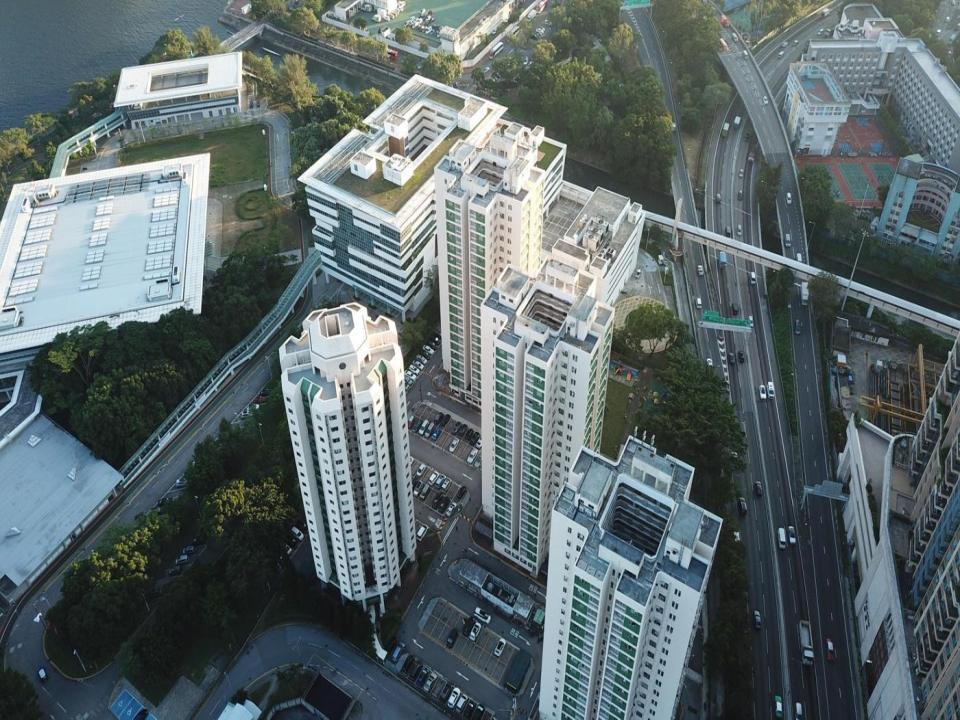bus: (377, 45, 399, 60), (505, 27, 520, 42), (489, 42, 503, 58), (535, 0, 548, 14)
car: (423, 672, 438, 691), (462, 617, 475, 636), (448, 688, 461, 707), (463, 699, 476, 718), (386, 635, 398, 654), (469, 623, 481, 642), (494, 637, 506, 656), (431, 492, 443, 510), (285, 535, 300, 549), (417, 667, 428, 686), (37, 665, 48, 683), (774, 695, 782, 719), (826, 638, 834, 662), (141, 588, 160, 598), (467, 447, 478, 464), (279, 540, 292, 554), (298, 518, 310, 533), (132, 709, 148, 719), (404, 455, 414, 471), (411, 418, 422, 432), (449, 438, 460, 452), (149, 507, 166, 516), (439, 496, 448, 513), (754, 611, 762, 630), (788, 526, 796, 545), (446, 502, 456, 517), (706, 357, 714, 375), (451, 421, 462, 434), (440, 414, 451, 427), (192, 536, 206, 546), (175, 554, 189, 564), (408, 478, 418, 492), (474, 452, 483, 467), (405, 368, 416, 380), (419, 349, 431, 360), (169, 564, 182, 574), (422, 344, 435, 354), (417, 463, 426, 477), (158, 496, 173, 504), (402, 376, 414, 386), (426, 340, 438, 350), (457, 486, 467, 498), (755, 481, 762, 498), (412, 360, 425, 369), (246, 402, 260, 410), (759, 385, 767, 399), (731, 448, 738, 464), (459, 424, 468, 436), (476, 434, 483, 449), (240, 410, 253, 418), (260, 388, 273, 396), (176, 478, 189, 486), (183, 546, 196, 554), (432, 426, 440, 439), (409, 364, 419, 374), (400, 379, 409, 390), (406, 416, 414, 428), (253, 396, 266, 403), (795, 319, 801, 334), (434, 411, 442, 422), (695, 297, 702, 309), (193, 459, 203, 467), (738, 350, 744, 363), (465, 428, 472, 439), (729, 352, 735, 364), (698, 265, 704, 276), (535, 27, 544, 34), (493, 71, 500, 78), (545, 19, 552, 26), (492, 27, 498, 35), (483, 66, 489, 74), (429, 29, 435, 37), (532, 31, 540, 37), (534, 30, 542, 36), (763, 96, 769, 104), (716, 194, 721, 203), (419, 8, 425, 15), (488, 77, 495, 83), (490, 74, 497, 80), (744, 132, 749, 140), (738, 168, 742, 177), (782, 42, 788, 48), (419, 25, 424, 32), (425, 20, 430, 27), (529, 60, 534, 67), (529, 34, 536, 39), (418, 16, 422, 24), (524, 57, 528, 65), (384, 15, 390, 20), (418, 66, 424, 71), (388, 14, 394, 19), (394, 9, 400, 14), (397, 6, 403, 11), (416, 23, 421, 29), (436, 32, 442, 37), (434, 25, 440, 30), (539, 26, 544, 32), (946, 16, 950, 23), (250, 99, 253, 108), (408, 21, 412, 27), (434, 30, 438, 36), (418, 17, 422, 22), (414, 17, 418, 22), (794, 40, 798, 45), (951, 0, 955, 5), (257, 101, 260, 107), (422, 15, 426, 19)
truck: (798, 620, 814, 667), (801, 282, 809, 306), (748, 143, 756, 162), (526, 9, 536, 23), (718, 251, 726, 268), (721, 15, 730, 28), (719, 38, 727, 52), (821, 8, 830, 18), (371, 14, 381, 22)
van: (474, 607, 491, 624), (392, 642, 405, 664), (409, 660, 423, 680), (402, 654, 414, 675), (446, 628, 458, 648), (440, 682, 452, 702), (456, 694, 468, 714), (416, 523, 429, 541), (292, 525, 305, 540), (473, 704, 486, 719), (418, 419, 430, 435), (778, 527, 786, 548), (825, 26, 839, 38), (435, 474, 446, 488), (738, 421, 746, 440), (428, 472, 439, 485), (722, 121, 730, 138), (738, 497, 746, 514), (425, 422, 434, 437), (420, 484, 429, 499), (470, 431, 480, 444), (947, 33, 957, 46), (767, 381, 774, 399), (734, 531, 740, 551), (414, 481, 421, 497), (733, 115, 741, 129), (430, 334, 441, 344), (416, 354, 427, 364), (796, 702, 802, 718), (796, 253, 802, 269), (785, 233, 791, 248), (749, 272, 756, 284), (732, 302, 738, 316), (747, 315, 754, 327), (708, 6, 716, 15), (786, 192, 792, 204), (736, 225, 742, 236), (724, 227, 730, 238), (806, 38, 814, 46), (732, 32, 738, 42), (404, 19, 411, 27), (425, 26, 432, 34), (777, 51, 784, 59), (743, 49, 748, 60), (954, 22, 960, 31), (364, 5, 372, 11), (426, 25, 432, 33), (398, 0, 405, 6), (671, 122, 676, 130), (738, 190, 742, 200), (818, 28, 823, 36), (936, 29, 941, 36), (426, 15, 431, 21), (410, 16, 415, 21), (438, 26, 443, 31), (390, 13, 398, 16), (412, 23, 416, 27)
